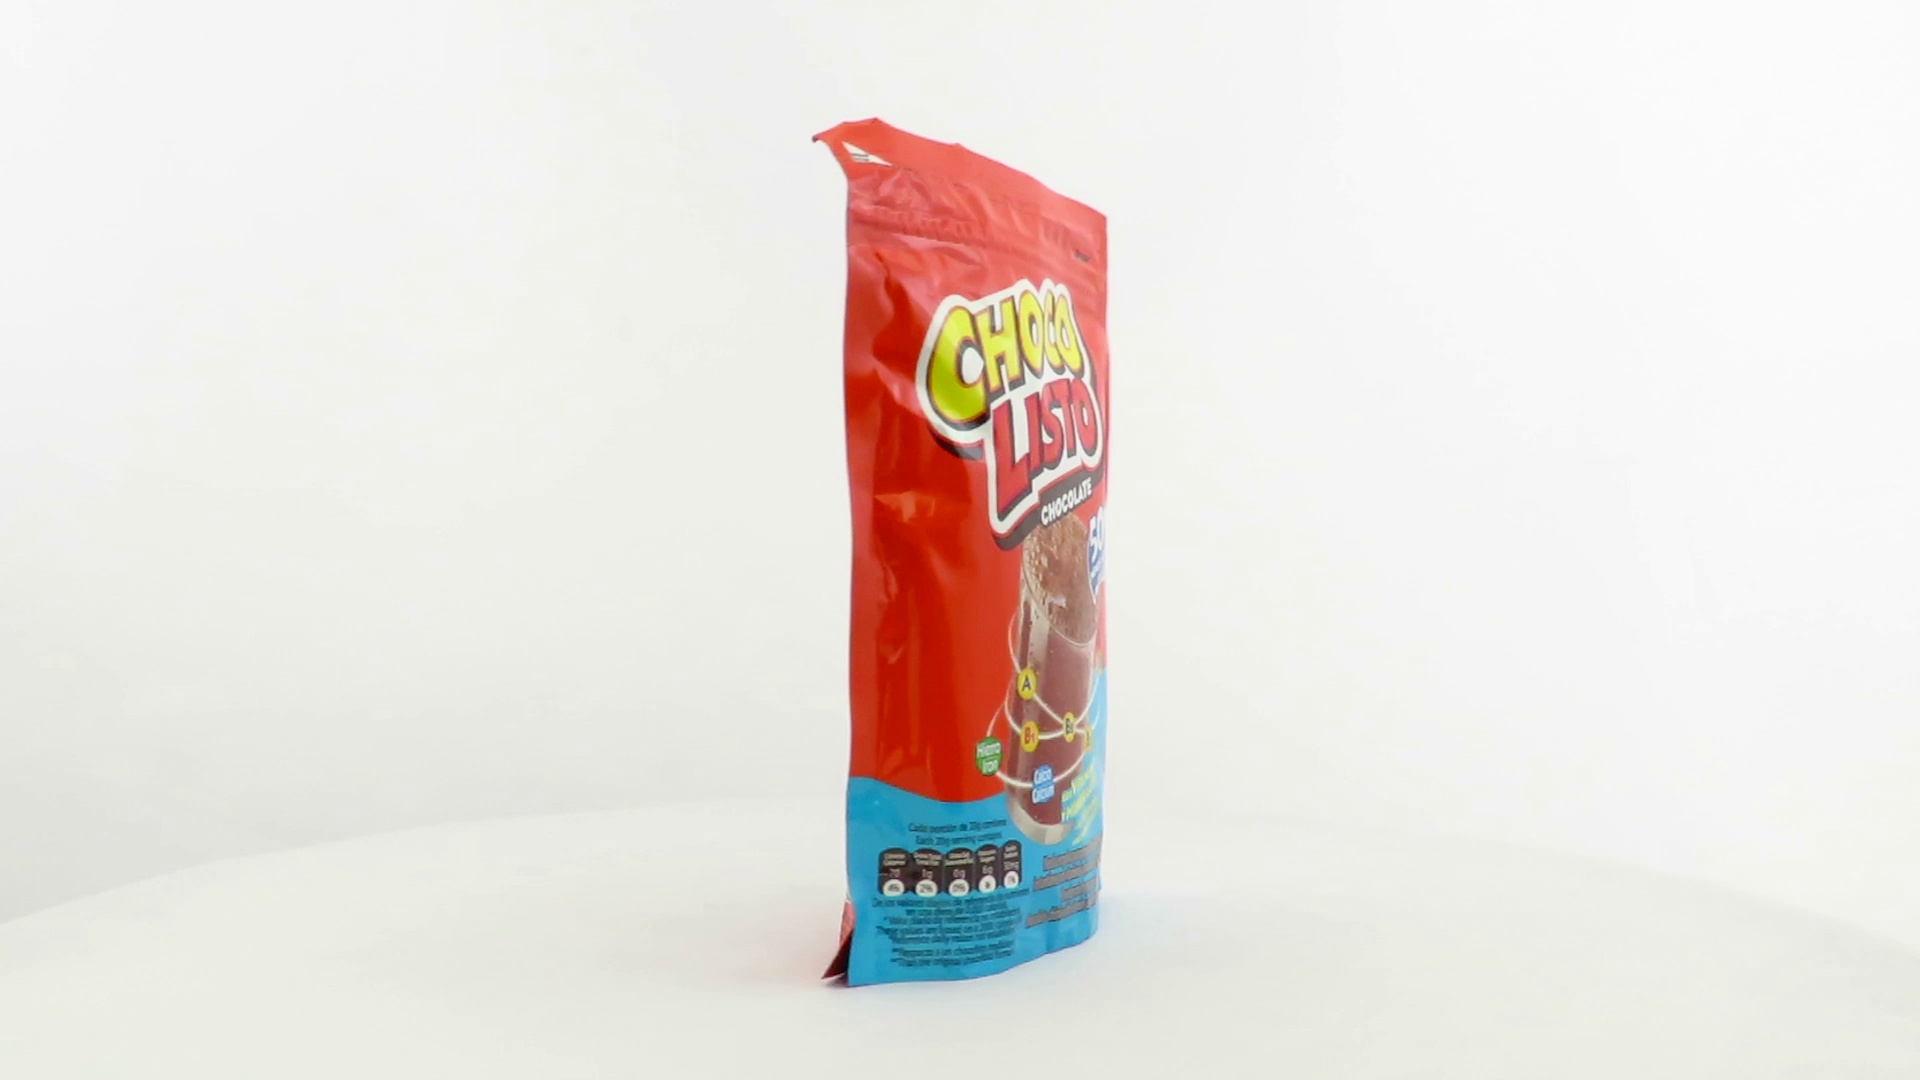COL0170104DYP20000: (807, 112, 1116, 994)
